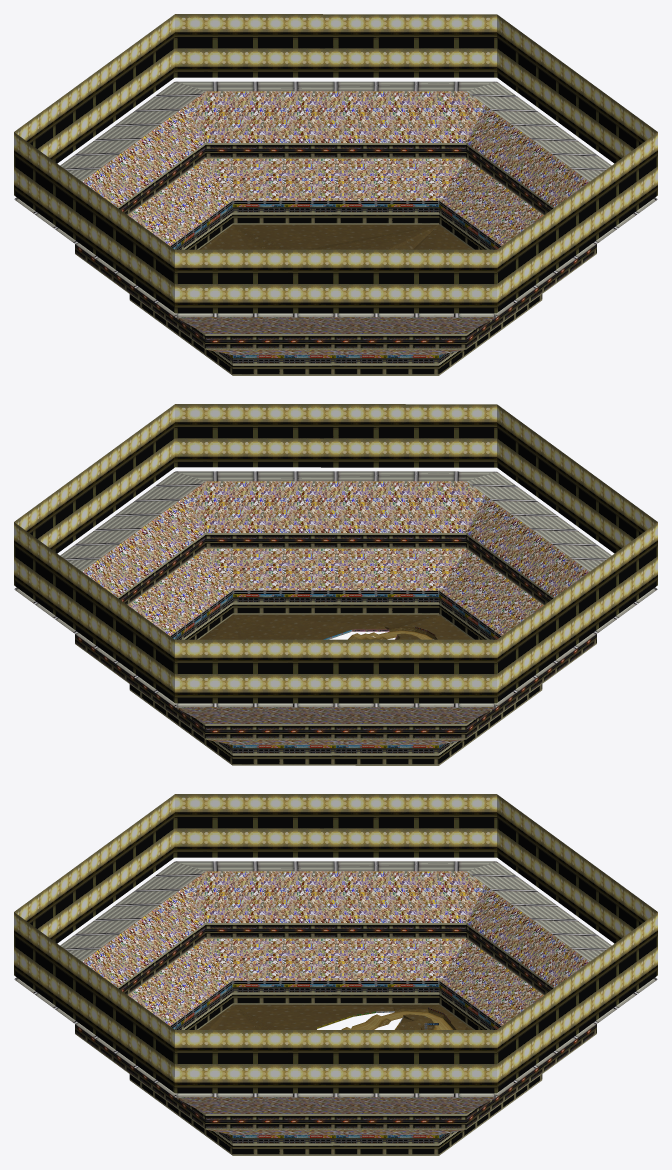
3 views of the same model, one above another, from view 1: azimuth 30°, elevation 25°; view 2: azimuth 150°, elevation 25°; view 3: azimuth 270°, elevation 25° (orthographic).
Parts seen in each view (by area): view 1: polygon8.021, polygon11.021, polygon9.020, polygon2.018, polygon10.019; view 2: polygon8.021, polygon11.021, polygon9.020, polygon2.018, polygon10.019, polygon3.020; view 3: polygon8.021, polygon11.021, polygon9.020, polygon2.018, polygon10.019, polygon3.020.
Part boxes in pixels (box(x1,y1,x2,y2)): polygon8.021: box(14, 14, 657, 317); polygon11.021: box(82, 91, 589, 355); polygon9.020: box(75, 143, 596, 375); polygon2.018: box(199, 224, 472, 249); polygon10.019: box(170, 200, 501, 247); polygon8.021: box(14, 404, 657, 707); polygon11.021: box(82, 481, 589, 744); polygon9.020: box(75, 533, 596, 765); polygon2.018: box(199, 614, 472, 639); polygon10.019: box(170, 590, 501, 637); polygon3.020: box(348, 626, 437, 639); polygon8.021: box(14, 794, 657, 1097); polygon11.021: box(82, 871, 589, 1135); polygon9.020: box(75, 923, 596, 1155); polygon2.018: box(199, 1004, 472, 1029); polygon10.019: box(170, 980, 501, 1027); polygon3.020: box(341, 1007, 465, 1029).
Size of the model in its own units: 64728 by 22108 by 74741.
Materials: 11 (11 with a texture image).
